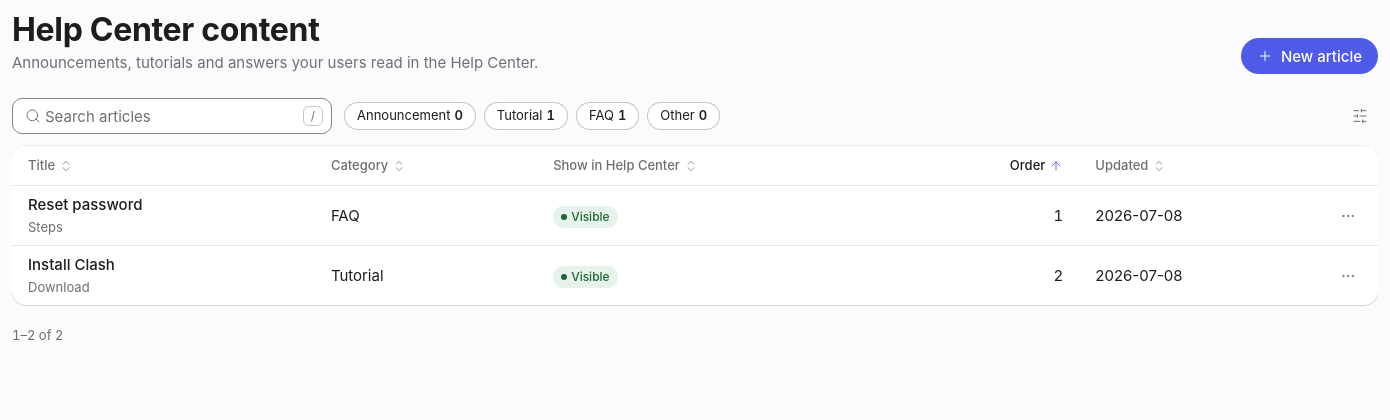
Test: Admin Knowledge › dialogs and feedback › filters by category and search, and shows empty and error states
Check: the text "Reset password" is shown, box [28, 195, 142, 214]
Click the button "Tutorial 1": x=526, y=116 [484, 102, 568, 130]
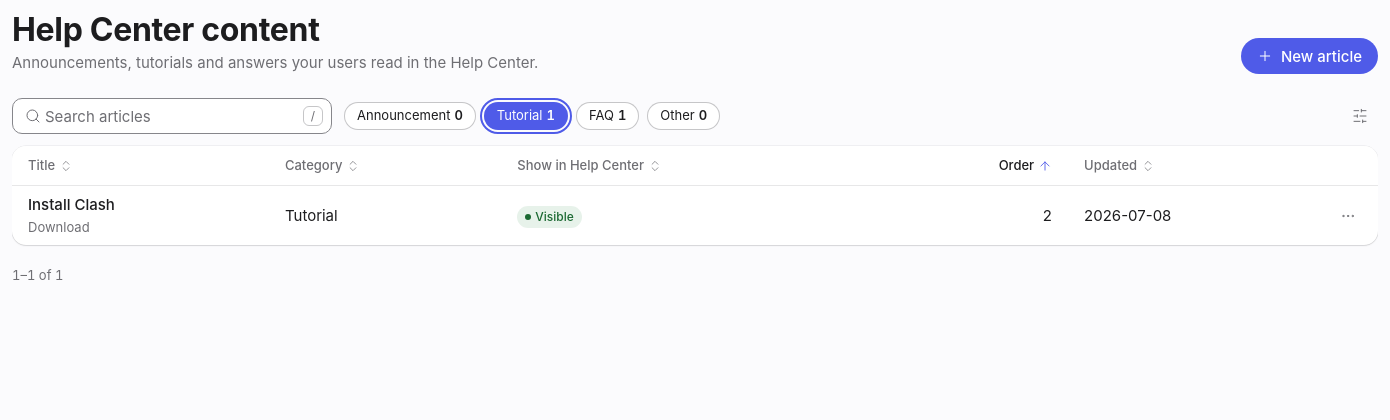
Check: the text "Install Clash" is shown, box [28, 195, 115, 214]
Check: the text "Reset password" is gone
In the search field labelled "Search articles": x=172, y=116 [13, 99, 331, 133], type "zzz"
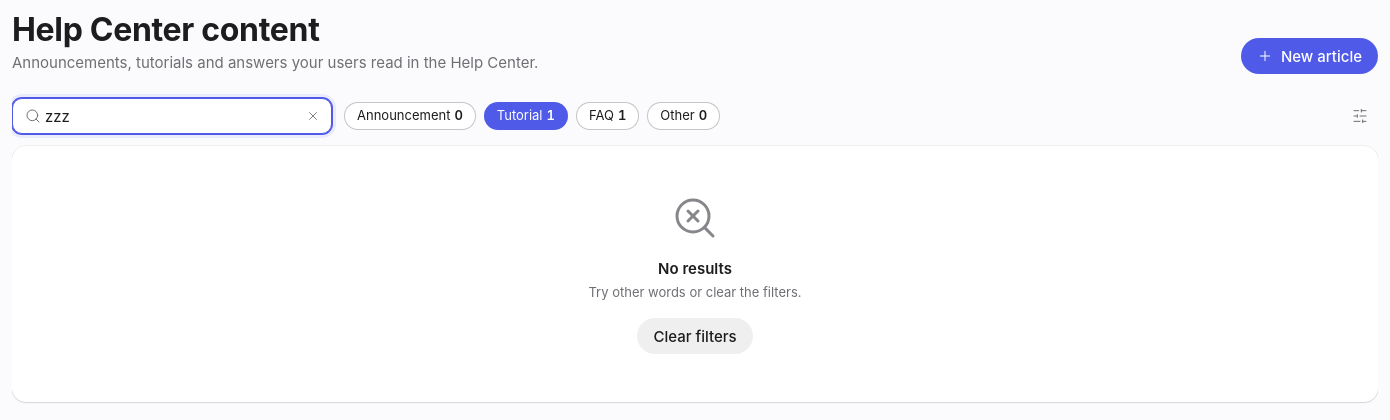
Check: the heading "No results" is shown, box [658, 259, 732, 278]
Click the button "Clear filters": x=695, y=336 [637, 318, 753, 354]
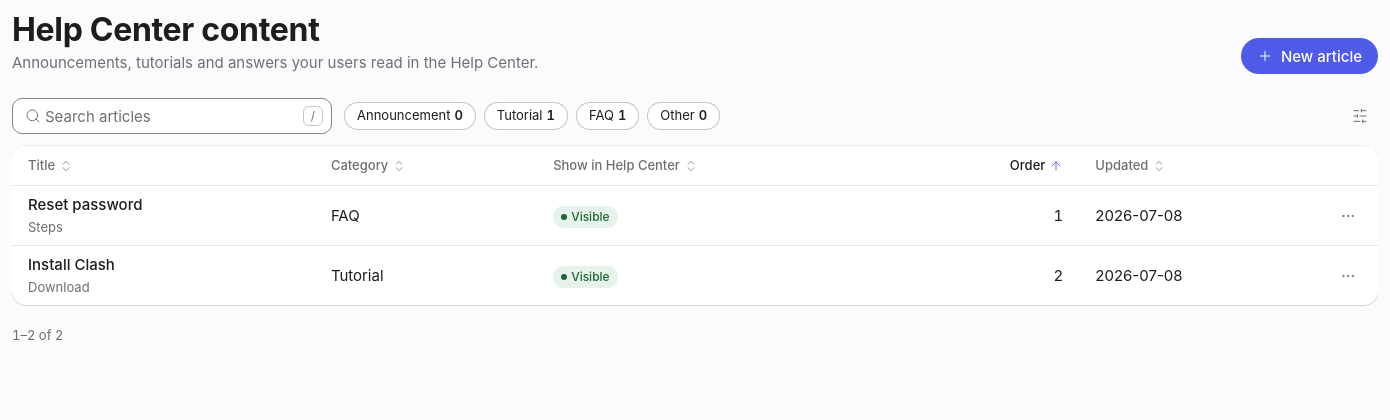
Check: the text "Reset password" is shown, box [28, 195, 142, 214]
